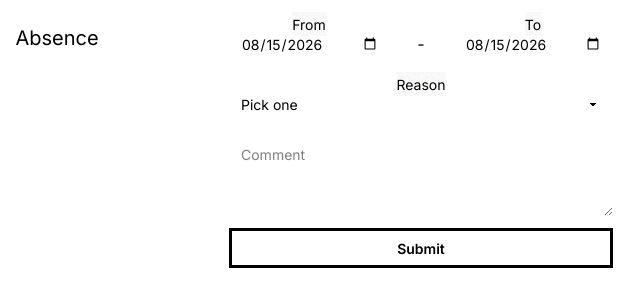
Test case: Absence form › pushes the to-date out when a later from-date is chosen
Type "2026-06-29" into the date field next to "From".
click(309, 44); type("2026-06-29")  # box [229, 24, 389, 64]
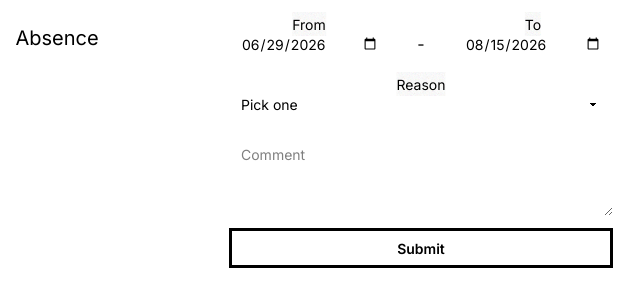
Type "2026-06-30" into the date field next to "To".
click(533, 44); type("2026-06-30")  # box [453, 24, 613, 64]
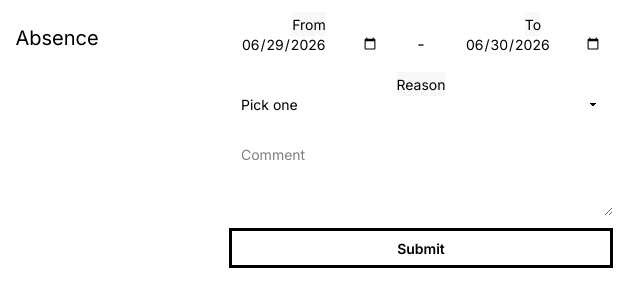
Type "2026-07-05" into the date field next to "From".
click(309, 44); type("2026-07-05")  # box [229, 24, 389, 64]
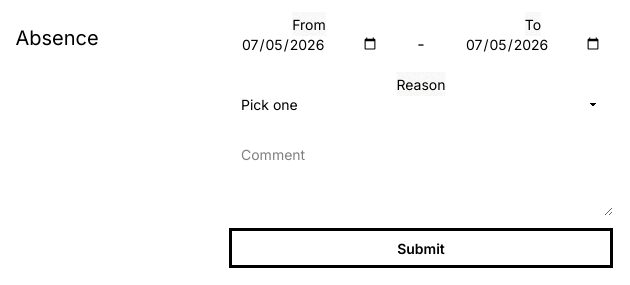
Expected: the date field next to "To" holds "2026-07-05", [453, 24, 613, 64]
